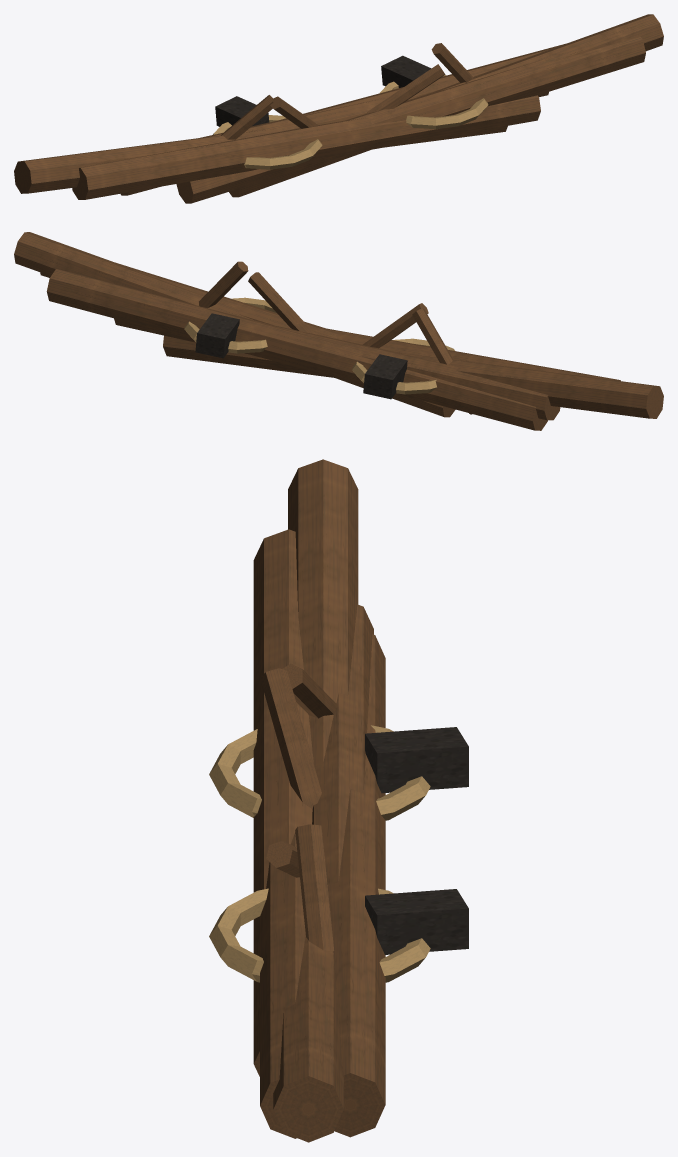
The model's file is pr-003_wood_poles_bundle__bundle.obj.
3 renders of one model, top to bottom at view 1: azimuth 30°, elevation 25°; view 2: azimuth 150°, elevation 25°; view 3: azimuth 270°, elevation 25°, orthographic. The views are drawn at different scales.
Parts seen in each view (by area): view 1: pr-003_wood_poles_bundle__bundle; view 2: pr-003_wood_poles_bundle__bundle; view 3: pr-003_wood_poles_bundle__bundle.
Part boxes in pixels (box(x1,y1,x2,y2)): pr-003_wood_poles_bundle__bundle: box(14, 14, 663, 203); pr-003_wood_poles_bundle__bundle: box(14, 232, 663, 430); pr-003_wood_poles_bundle__bundle: box(209, 459, 468, 1142).
Size of the model in its own units: 1.87 by 0.2994 by 0.3325.
3 materials, 3 textured.
